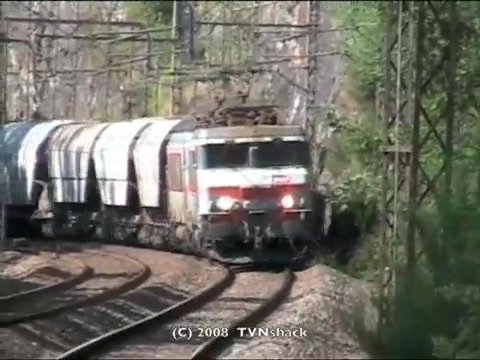train: (1, 105, 325, 272)
